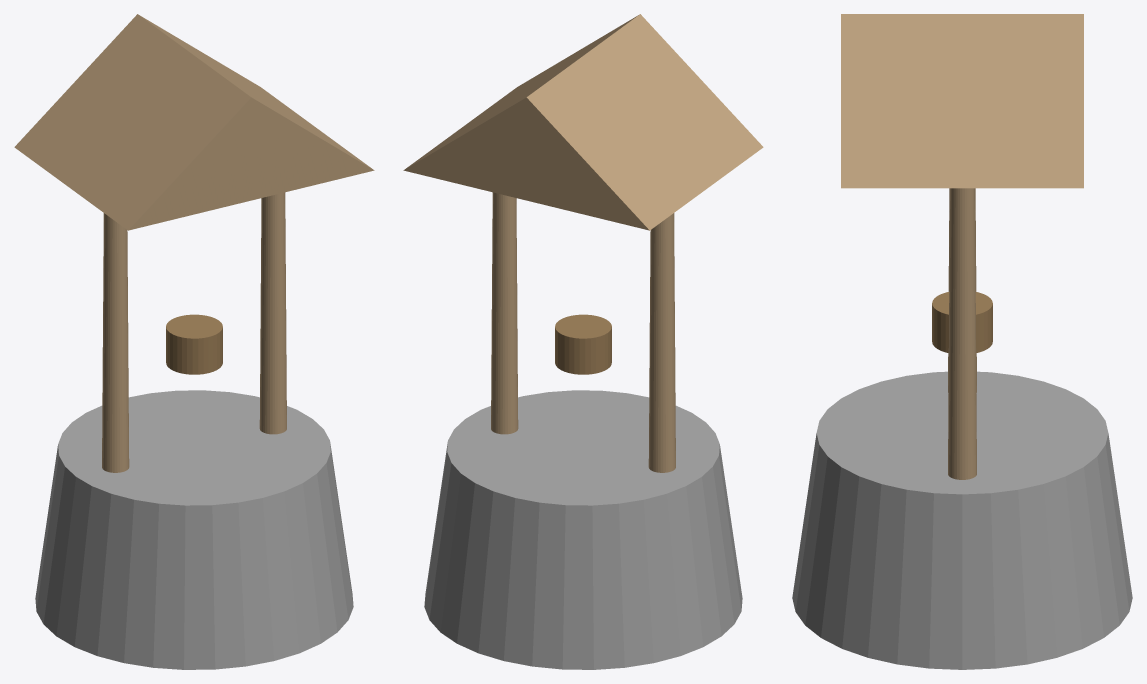
Rendered from well.glb.
The picture shows the model from 3 angles, left to right: view 1: azimuth 30°, elevation 25°; view 2: azimuth 150°, elevation 25°; view 3: azimuth 270°, elevation 25°; orthographic projection. The views are drawn at different scales.
Visible parts, largest first — view 1: Well_Base, Well_Roof, Well_Pole_0, Well_Pole_1, Well_Bucket; view 2: Well_Base, Well_Roof, Well_Pole_0, Well_Pole_1, Well_Bucket; view 3: Well_Base, Well_Roof, Well_Pole_1, Well_Bucket.
Boxes of the visible parts, x1,y1,x2,y2 form: Well_Base: (35, 390, 353, 669); Well_Roof: (14, 14, 374, 230); Well_Pole_0: (102, 213, 129, 472); Well_Pole_1: (259, 192, 286, 434); Well_Bucket: (166, 314, 222, 374); Well_Base: (424, 390, 742, 669); Well_Roof: (403, 14, 763, 230); Well_Pole_0: (648, 213, 675, 472); Well_Pole_1: (491, 192, 518, 434); Well_Bucket: (555, 314, 611, 374); Well_Base: (792, 371, 1132, 669); Well_Roof: (841, 14, 1083, 188); Well_Pole_1: (948, 188, 976, 479); Well_Bucket: (932, 292, 992, 352).
Size of the model in its own units: 2.8 by 5.3 by 2.8.
